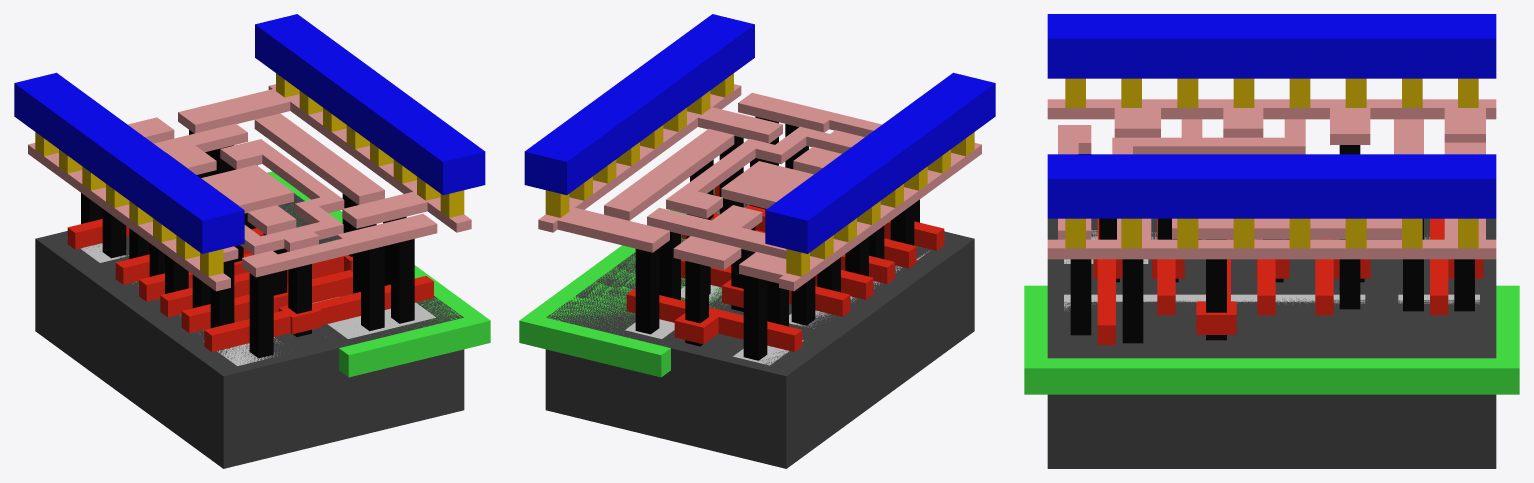
The model's file is sky130_fd_sc_hd__or4b_1.obj.
The picture shows the model from 3 angles, left to right: view 1: azimuth 30°, elevation 25°; view 2: azimuth 150°, elevation 25°; view 3: azimuth 270°, elevation 25°; orthographic projection. The views are drawn at different scales.
Parts seen in each view (by area): view 1: subs, metal1, li, licon, poly, nwell, mcon, tap, diff; view 2: subs, metal1, li, licon, nwell, poly, mcon, diff, tap; view 3: subs, metal1, li, nwell, mcon, licon, poly, tap.
Part boxes in pixels (bbox=[...]): subs: bbox=[35, 193, 464, 468]; metal1: bbox=[14, 14, 485, 253]; li: bbox=[28, 84, 471, 291]; licon: bbox=[81, 130, 414, 358]; poly: bbox=[67, 219, 433, 351]; nwell: bbox=[267, 171, 490, 377]; mcon: bbox=[35, 73, 464, 276]; tap: bbox=[312, 296, 435, 338]; diff: bbox=[80, 243, 282, 365]; subs: bbox=[545, 194, 974, 468]; metal1: bbox=[524, 14, 995, 253]; li: bbox=[538, 84, 981, 291]; licon: bbox=[635, 116, 919, 360]; nwell: bbox=[519, 188, 726, 377]; poly: bbox=[626, 184, 944, 351]; mcon: bbox=[545, 73, 974, 276]; diff: bbox=[733, 250, 929, 365]; tap: bbox=[625, 204, 745, 338]; subs: bbox=[1047, 218, 1496, 468]; metal1: bbox=[1047, 14, 1496, 218]; li: bbox=[1047, 99, 1496, 259]; nwell: bbox=[1024, 285, 1519, 394]; mcon: bbox=[1065, 78, 1478, 248]; licon: bbox=[1070, 145, 1474, 343]; poly: bbox=[1093, 218, 1483, 345]; tap: bbox=[1064, 294, 1479, 310].
Bounding box in the file's own units: 3.2 × 2.74 × 4.06.
